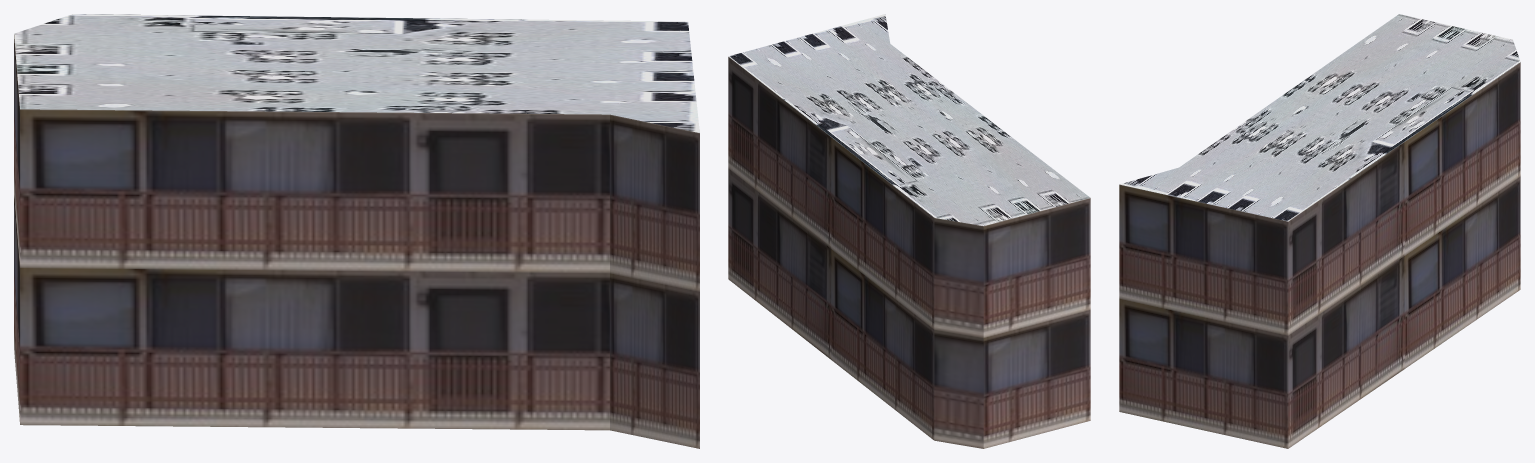
The model's file is ResTex__1212.fbx.
3 renders of one model, left to right at view 1: azimuth 30°, elevation 25°; view 2: azimuth 150°, elevation 25°; view 3: azimuth 270°, elevation 25°, orthographic. The views are drawn at different scales.
Visible parts, largest first — view 1: CityEngineMaterial_6_m, CityEngineMaterial_4_m; view 2: CityEngineMaterial_6_m, CityEngineMaterial_4_m; view 3: CityEngineMaterial_6_m, CityEngineMaterial_4_m.
Part boxes in pixels (left/top/right/bottom): CityEngineMaterial_6_m: left=14, top=35, right=699, bottom=448; CityEngineMaterial_4_m: left=14, top=14, right=699, bottom=132; CityEngineMaterial_6_m: left=728, top=57, right=1090, bottom=448; CityEngineMaterial_4_m: left=728, top=14, right=1090, bottom=225; CityEngineMaterial_6_m: left=1119, top=62, right=1520, bottom=448; CityEngineMaterial_4_m: left=1119, top=14, right=1520, bottom=221.
Bounding box in the file's own units: 11.75 × 6 × 9.6.
2 materials, 2 textured.
